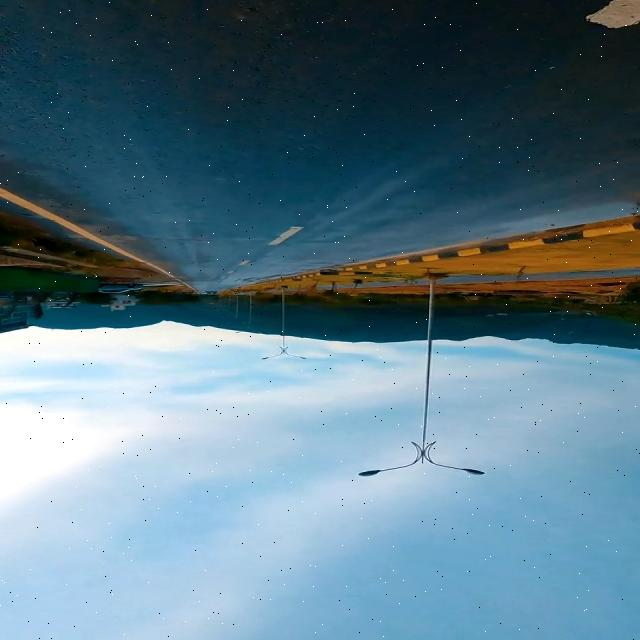lane: (279, 219, 639, 281), (0, 189, 198, 292)
road: (2, 1, 636, 291), (279, 219, 639, 281)
